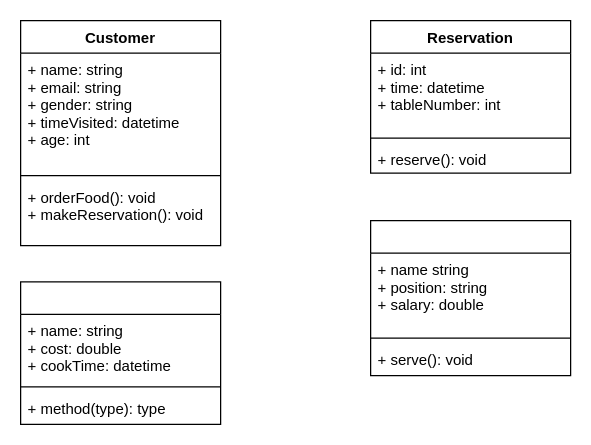
Image size: 591x445. Some labels were removed from this diagram. Each missing label, with the box of its shape:
Employee: (369, 219, 571, 376)
Food: (19, 281, 221, 424)
